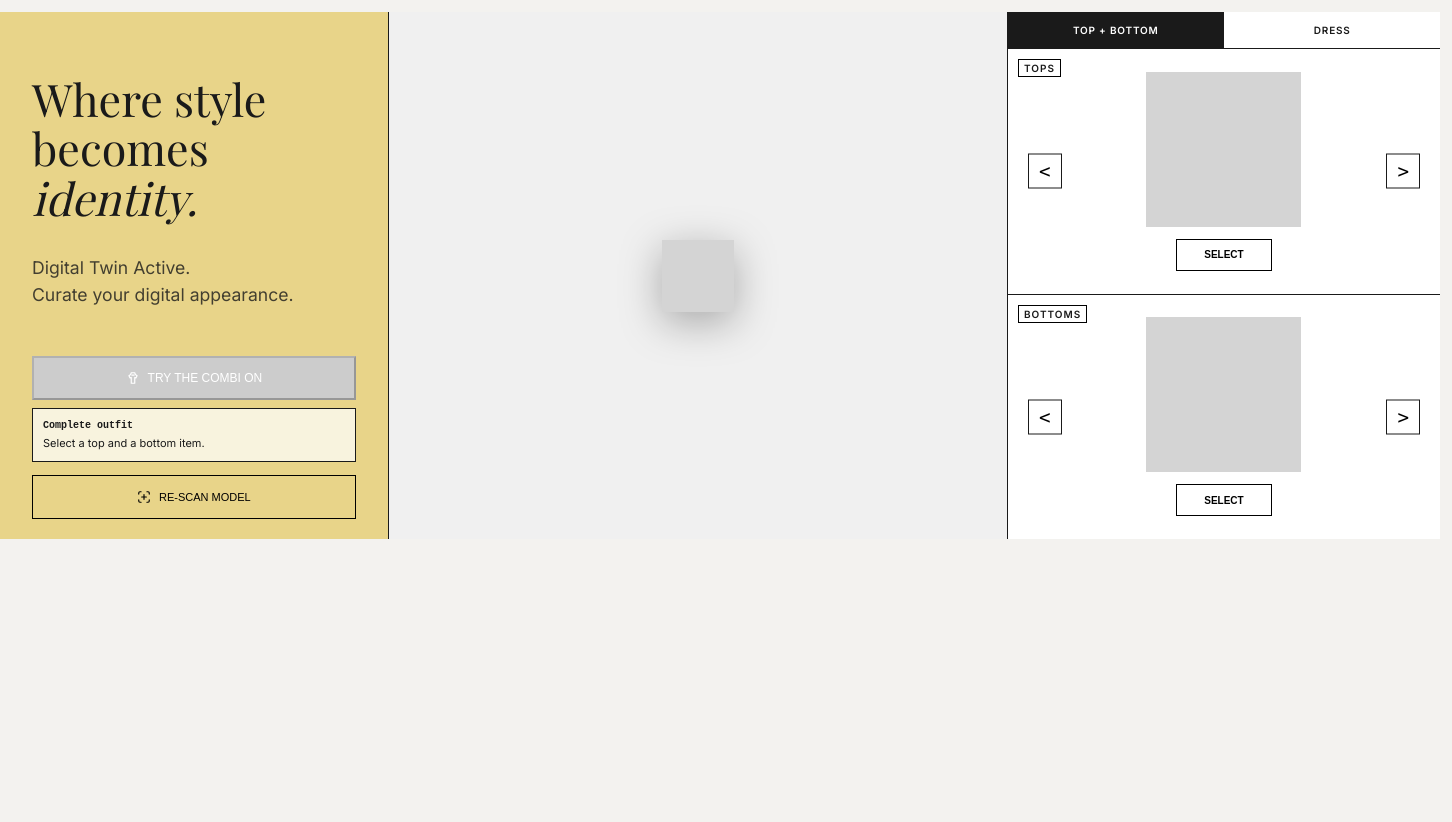
Wardrobe states › clears the generated look and all selections on reset
The width and height of the screenshot is (1452, 822).
Click the button "SELECT" below "TOPS".
click(1224, 255)  # box [1176,239,1272,271]
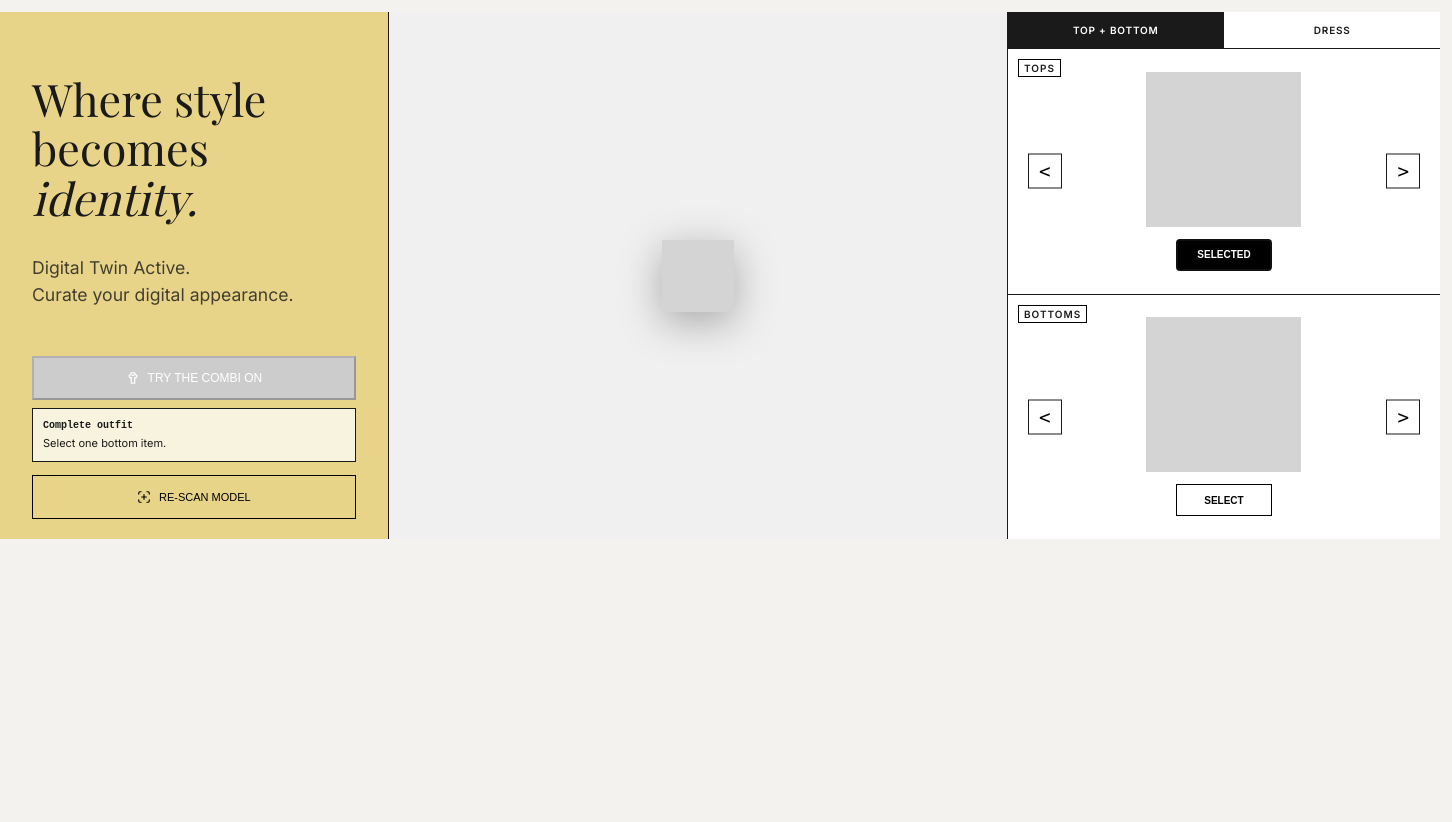
Click the button "SELECT".
click(1224, 500)  # box [1176,484,1272,516]
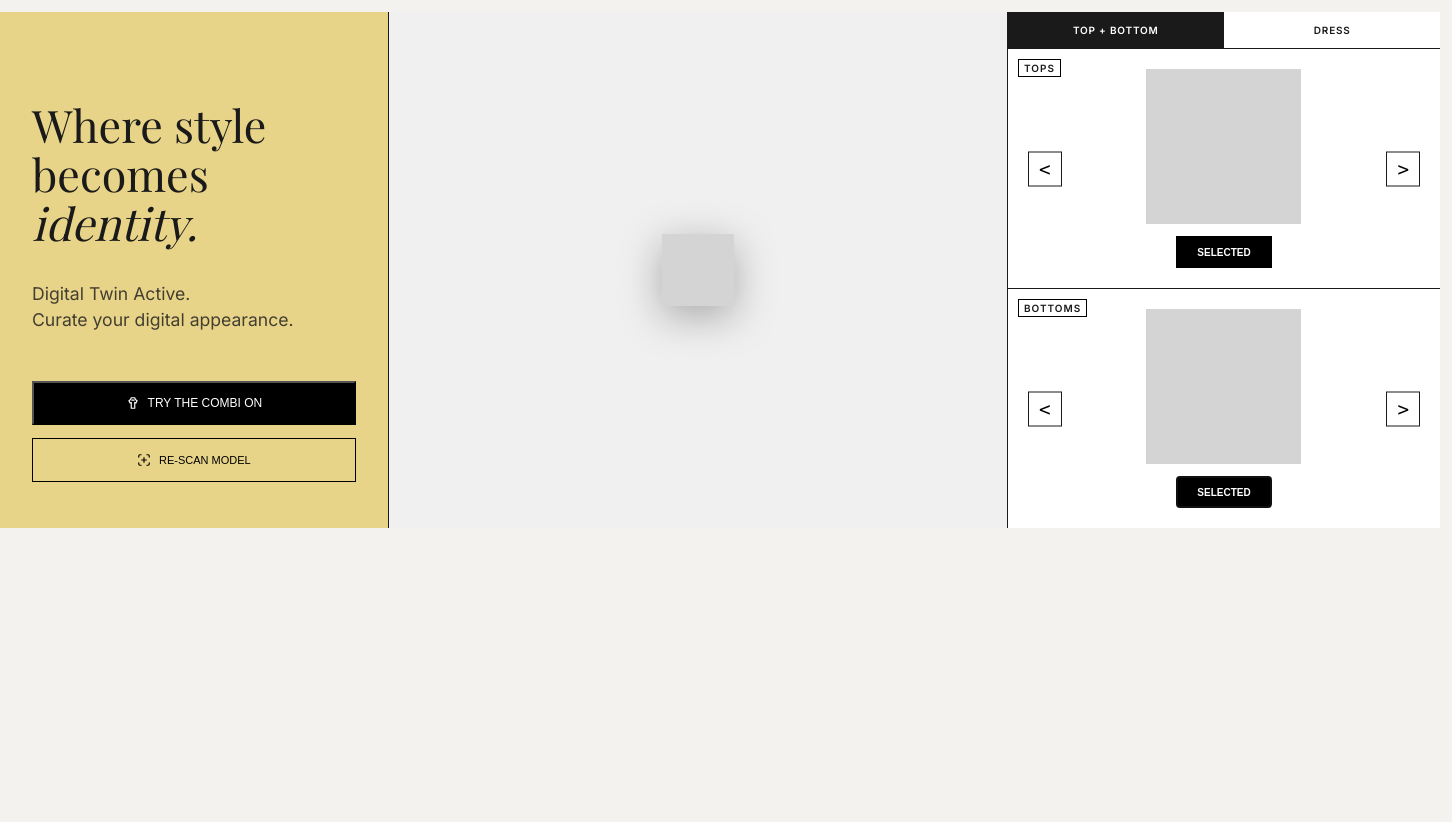
Click the button "TRY THE COMBI ON".
click(194, 403)  # box [32,381,356,425]
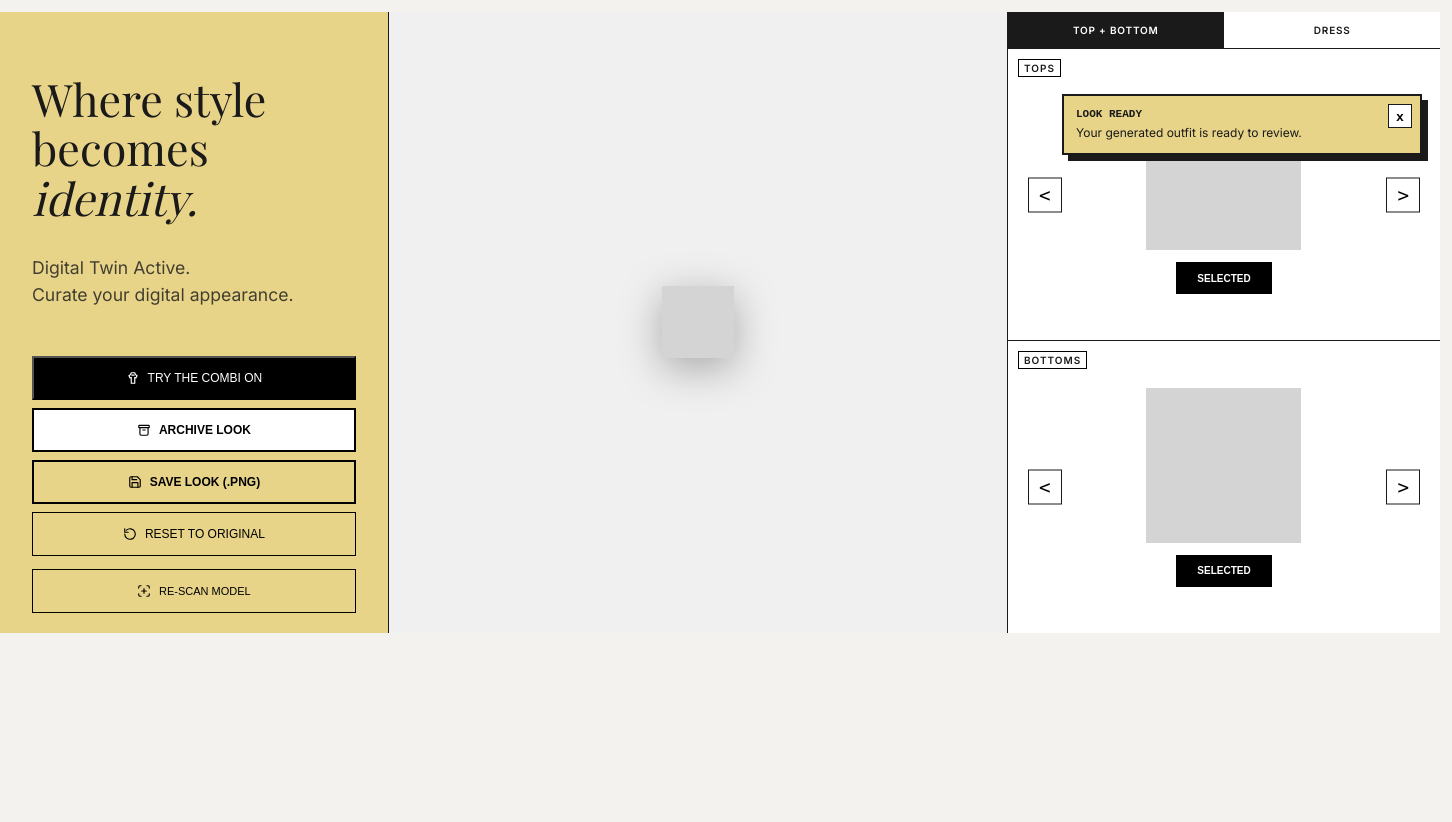
Expected: the text "LOOK READY" is shown, [1076,108,1142,120]
Click the button "RESET TO ORIGINAL".
click(194, 534)  # box [32,512,356,556]
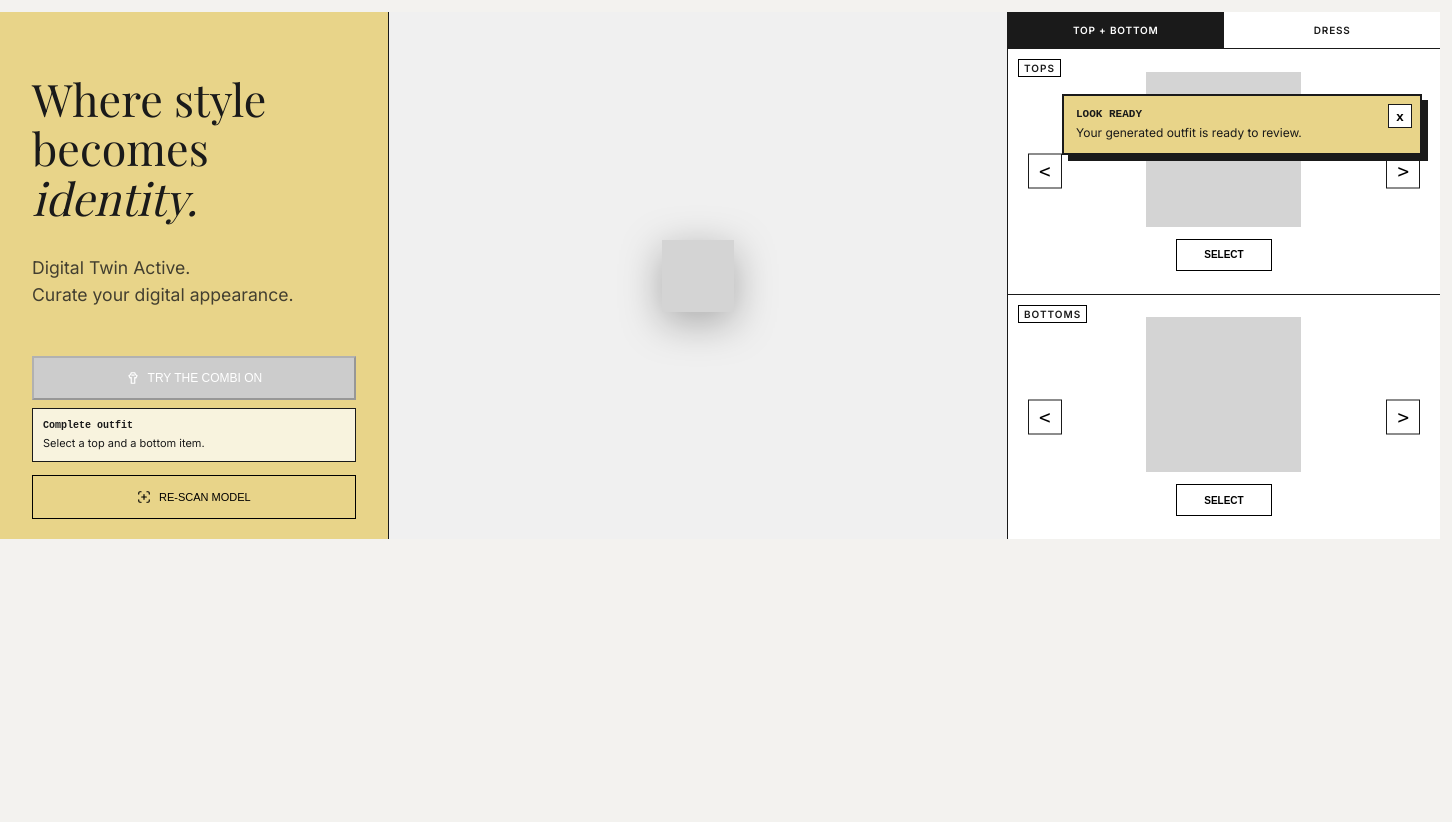
Expected: the button "ARCHIVE LOOK" is gone
Expected: the button "SAVE LOOK" is gone
Expected: the button "TRY THE COMBI ON" is disabled, [32,356,356,400]
